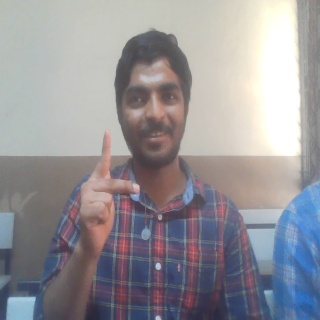Face: (114, 29, 193, 168)
Okay: (75, 129, 141, 263)
